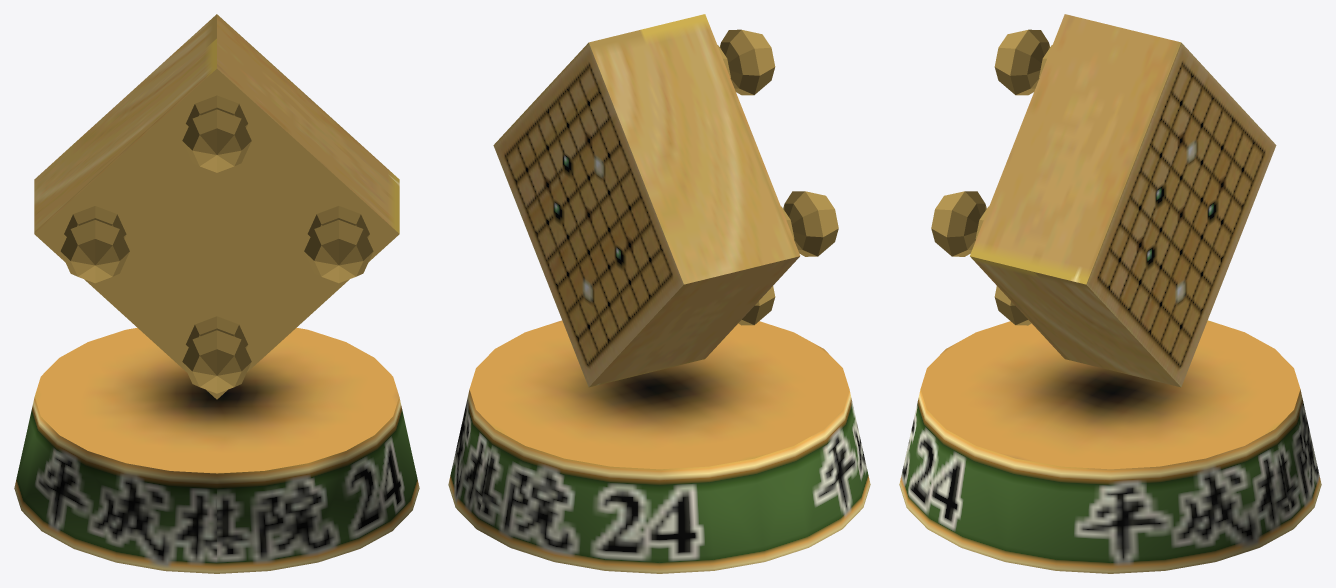
Rendered from ngo_00.ico.obj.
The picture shows the model from 3 angles, left to right: view 1: azimuth 30°, elevation 25°; view 2: azimuth 150°, elevation 25°; view 3: azimuth 270°, elevation 25°; orthographic projection. The views are drawn at different scales.
Bounding box in the file's own units: 3.91 × 4.69 × 3.91.
1 material, 1 textured.
